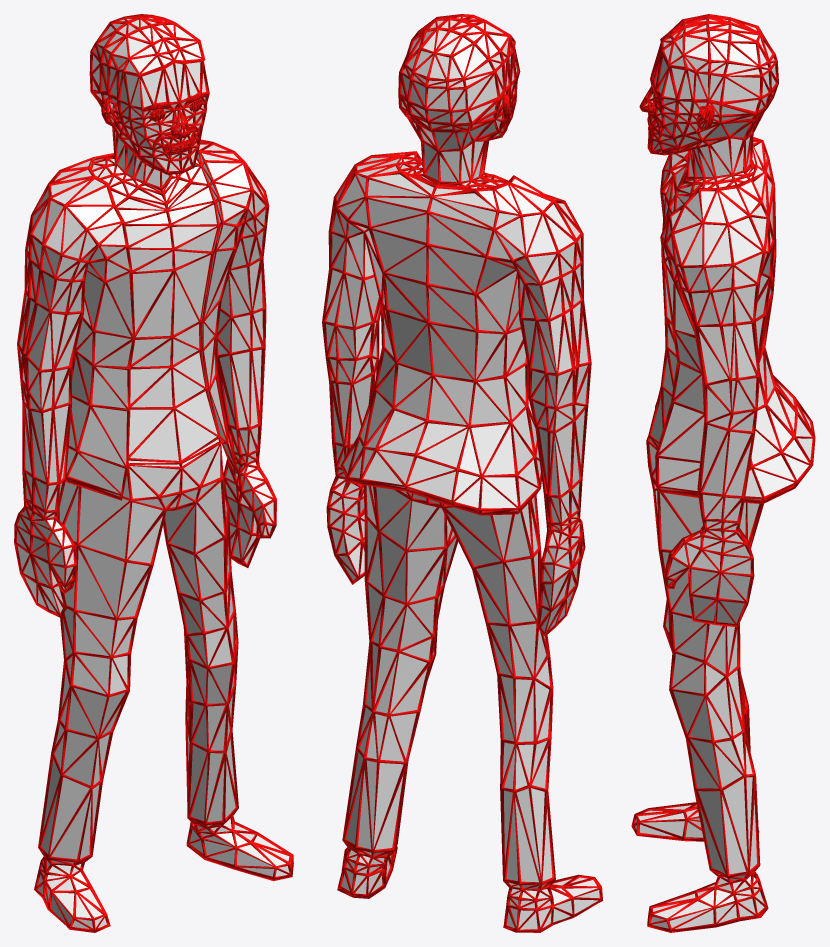
The model's file is elegantIdle_000027.obj.
The picture shows the model from 3 angles, left to right: view 1: azimuth 30°, elevation 25°; view 2: azimuth 150°, elevation 25°; view 3: azimuth 270°, elevation 25°; orthographic projection. The views are drawn at different scales.
Visible parts, largest first — view 1: BaseHuman_Cylinder.002; view 2: BaseHuman_Cylinder.002; view 3: BaseHuman_Cylinder.002.
Part boxes in pixels (left/top/right/bottom): BaseHuman_Cylinder.002: left=14, top=14, right=293, bottom=932; BaseHuman_Cylinder.002: left=322, top=14, right=602, bottom=932; BaseHuman_Cylinder.002: left=631, top=14, right=815, bottom=932.
Size of the model in its own units: 1.44 by 4.85 by 0.9473.
